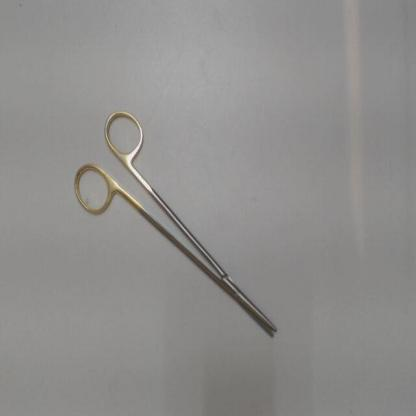7 Metzenbaum Scissors: (71, 102, 281, 344)
